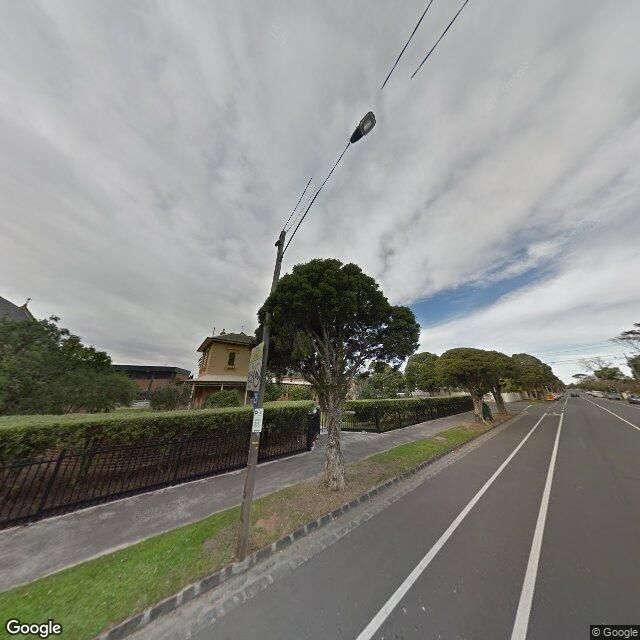streetlight: (281, 110, 377, 260)
timber-pole: (235, 229, 287, 561)
